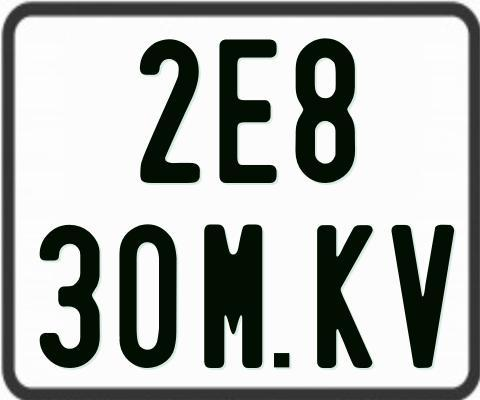0: (118, 224, 180, 372)
2: (137, 39, 197, 186)
3: (37, 222, 103, 371)
8: (293, 37, 357, 183)
E: (217, 39, 277, 189)
K: (315, 224, 372, 368)
M: (203, 221, 263, 368)
V: (392, 224, 460, 370)
